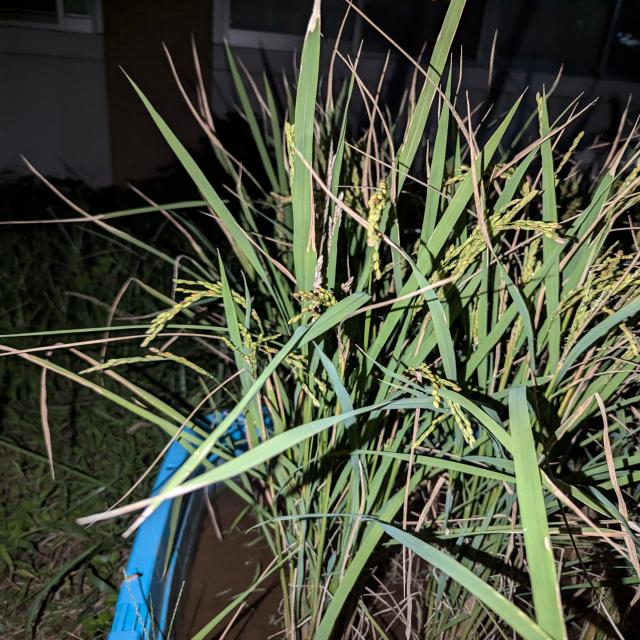9month_ine: (62, 0, 566, 638), (387, 105, 591, 640), (595, 292, 640, 616)
